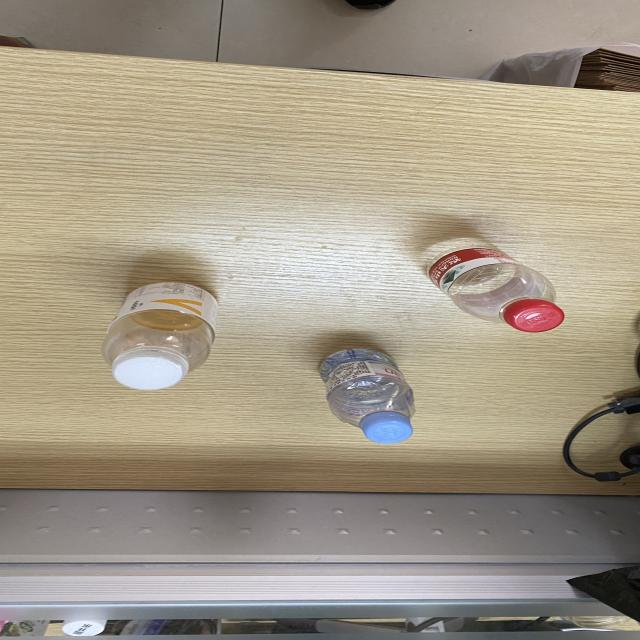Anorganik: (394, 216, 576, 343), (83, 243, 223, 406), (303, 321, 427, 453)
